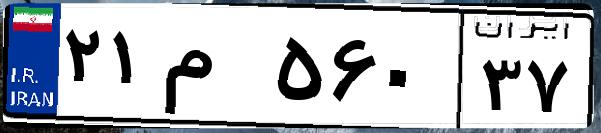0: (385, 28, 445, 110)
1: (110, 28, 158, 98)
2: (57, 26, 110, 100)
3: (475, 38, 525, 113)
5: (270, 28, 330, 110)
6: (330, 28, 385, 110)
7: (525, 38, 570, 115)
م: (158, 20, 270, 120)
